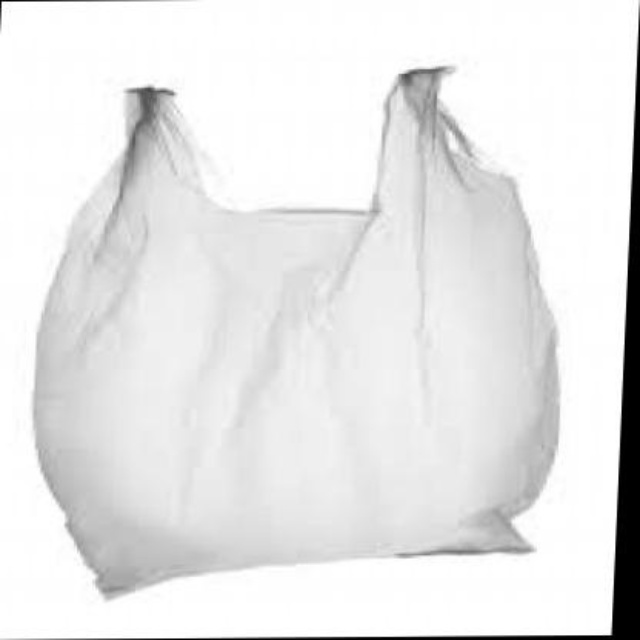trash: (34, 68, 557, 592)
